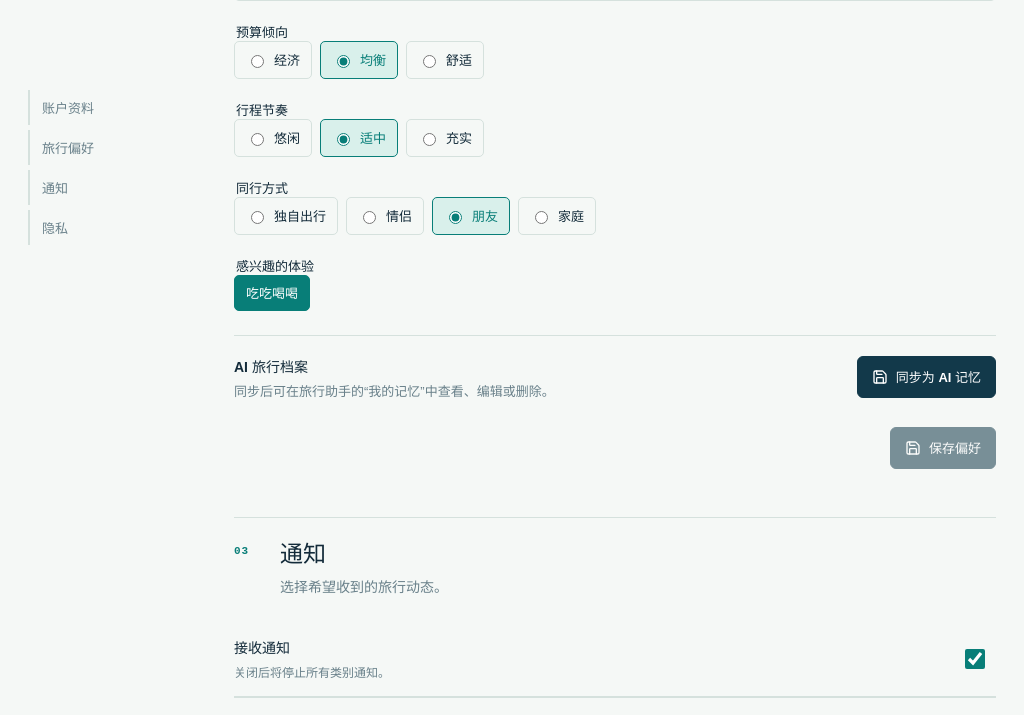
Test: SettingsPage › shows the API error and re-enables the sync control after failure
(page scrolled)
Click the button with test id "sync-ai-memory".
click(926, 377)  # box 857,356 -> 996,398
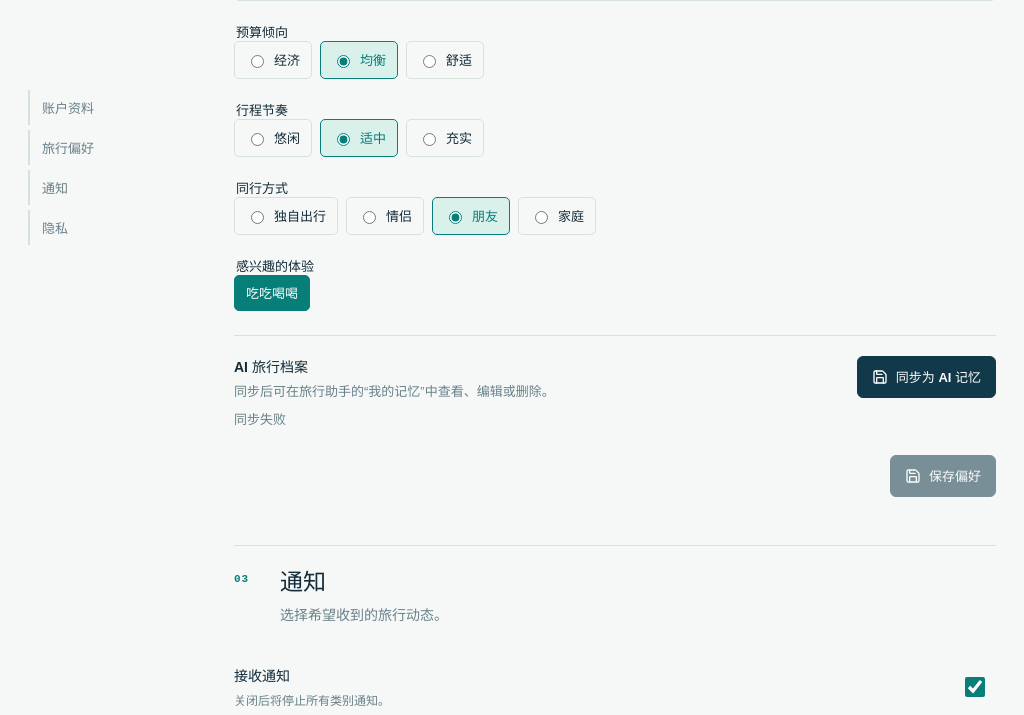
Expected: the text "同步失败" is shown, 234,412 -> 286,427
